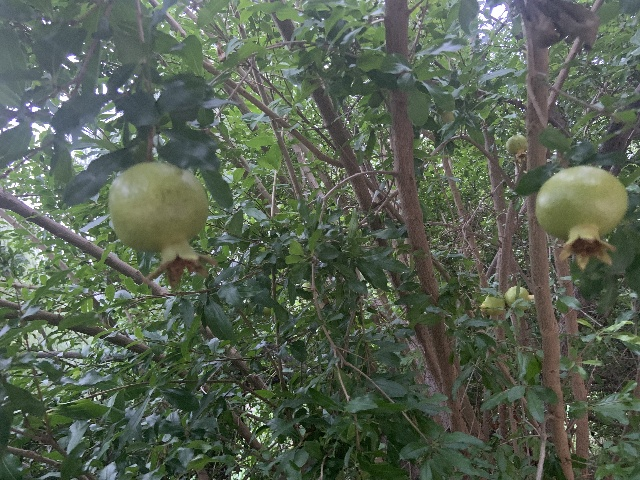mid-growth: (108, 160, 218, 288), (533, 165, 627, 272), (471, 291, 505, 317), (504, 286, 534, 310), (505, 134, 527, 159)
